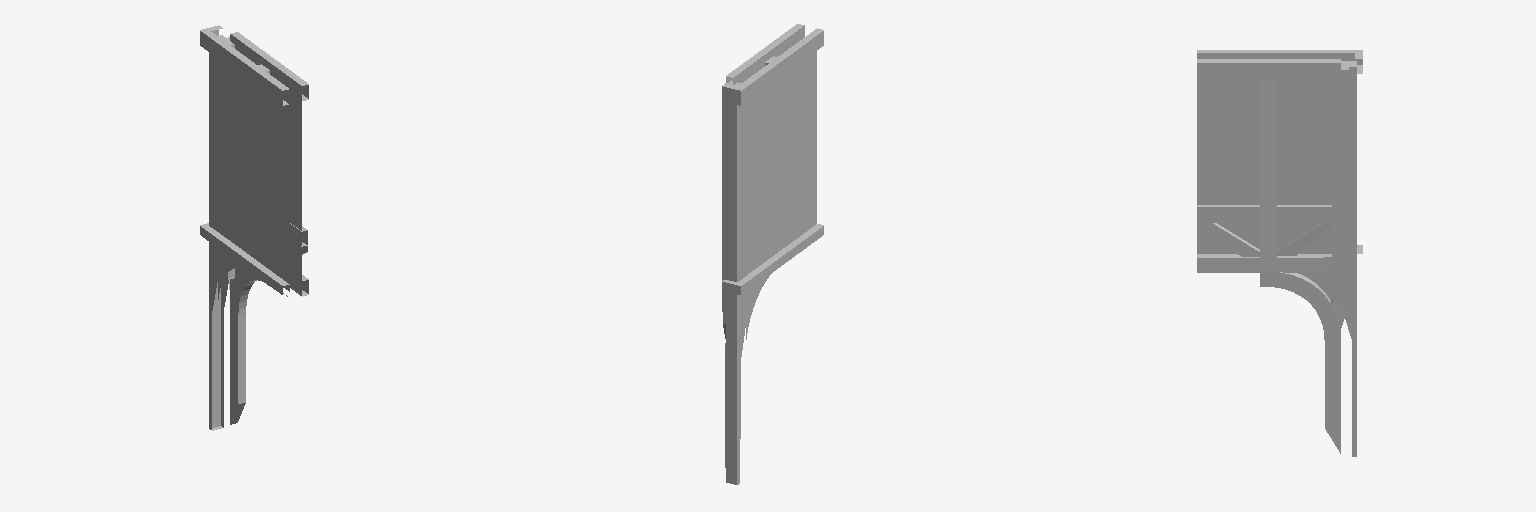
The model's file is Overhang_Side_Plaster_Long_R.obj.
The picture shows the model from 3 angles: view 1: azimuth 30°, elevation 25°; view 2: azimuth 150°, elevation 25°; view 3: azimuth 270°, elevation 25°; orthographic projection.
Visible parts, largest first — view 1: Overhang_Side_Plaster_Long_R; view 2: Overhang_Side_Plaster_Long_R; view 3: Overhang_Side_Plaster_Long_R.
Boxes of the visible parts, <box> form: Overhang_Side_Plaster_Long_R: <box>200,25,308,430</box>; Overhang_Side_Plaster_Long_R: <box>722,24,823,484</box>; Overhang_Side_Plaster_Long_R: <box>1197,50,1362,456</box>.
Size of the model in its own units: 0.4793 by 6.12 by 2.31.